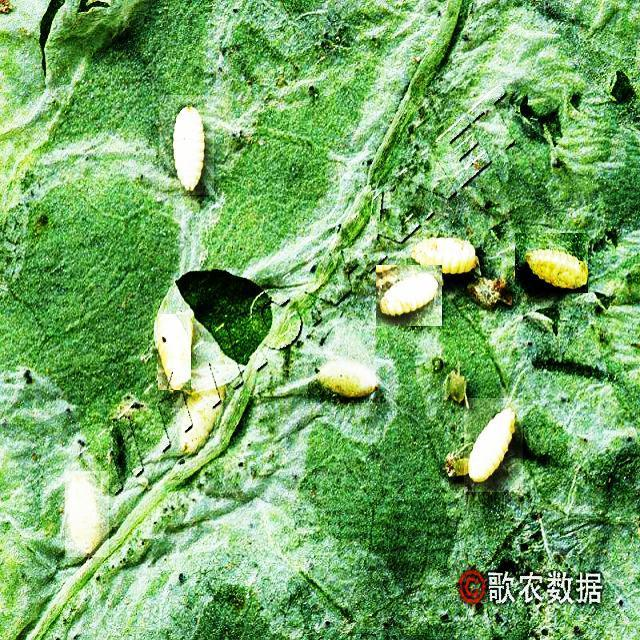whorl-maggot: (464, 398, 523, 492), (159, 95, 214, 195), (515, 233, 588, 293), (376, 265, 442, 326), (308, 354, 386, 403), (66, 471, 110, 557), (159, 314, 190, 390)
